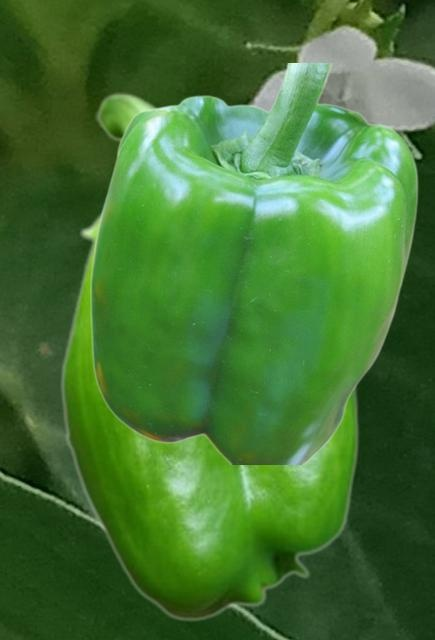bell_pepper: (59, 92, 359, 621), (89, 63, 417, 463)
